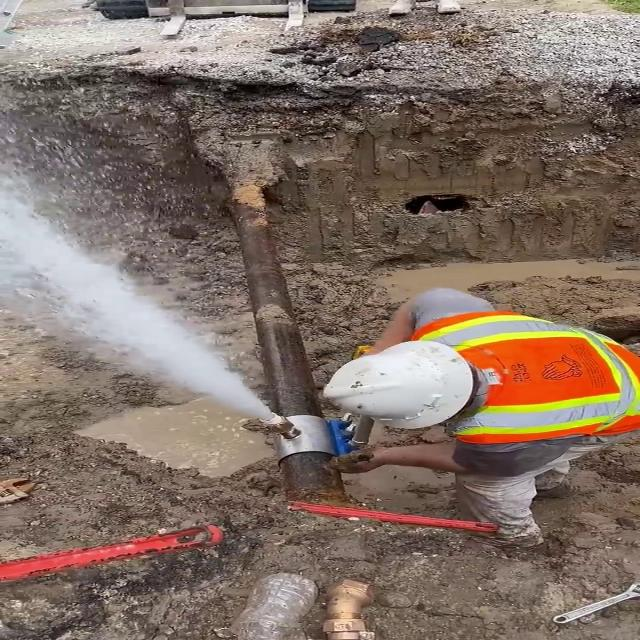leak: (0, 171, 279, 424)
